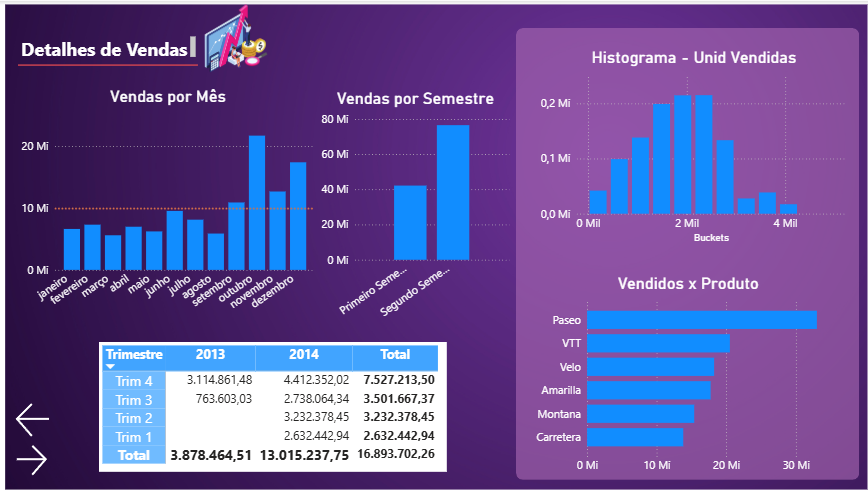

The dashboard page shown, as its layout file describes it:
{"tool":"powerbi","page":{"name":"Detalhes","canvas":[1280,720],"ordinal":2},"visuals":[{"type":"image","title":"fundo_purple","box":[0,0,1280.3,720],"z":0},{"type":"shape","box":[27.3,76.9,263.2,32.5],"z":1000},{"type":"actionButton","title":"Botão - Next","box":[18.8,644.3,58,56.3],"z":1000},{"type":"shape","box":[757.1,39.3,502.4,661.4],"z":2000},{"type":"clusteredColumnChart","title":"Vendas por Mês","fields":{"Category":["financials.Date.Variation.Hierarquia de datas.Mês"],"Y":["Sum(financials. Sales)"]},"box":[27.3,126.5,439.2,348.6],"z":2001},{"type":"pivotTable","fields":{"Columns":["financials.Date.Variation.Hierarquia de datas.Ano"],"Rows":["financials.Date.Variation.Hierarquia de datas.Trimestre"],"Values":["Sum(financials.Profit)"]},"box":[147,499,509.5,189.9],"z":4000},{"type":"clusteredColumnChart","title":"Vendas por Semestre","fields":{"Category":["financials.Semestres"],"Y":["Sum(financials. Sales)"]},"box":[466.5,128.2,285.4,346.9],"z":4001},{"type":"clusteredColumnChart","title":"Histograma - Unid Vendidas","fields":{"Category":["financials.Buckets"],"Y":["Sum(financials.Units Sold)"]},"box":[787.8,68.4,459.7,290.5],"z":4002},{"type":"clusteredBarChart","title":"Vendidos x Produto","fields":{"Category":["financials.Product"],"Y":["Sum(financials. Sales)"]},"box":[775.9,399.9,466.5,300.8],"z":4003},{"type":"actionButton","box":[18.8,582.8,80.3,61.5],"z":4004},{"type":"image","box":[290.5,0,111.1,109.4],"z":4005},{"type":"textbox","box":[27.3,46.1,264.9,42.7],"z":5000}]}

Visuals, with their boxes in screenshot pixels (x1, y1, x2, y2), scaled from the page's 1280x720 canvas onto the 868x490 screenshot:
"fundo_purple" image: left=0, top=0, right=867, bottom=489
shape: left=19, top=52, right=197, bottom=74
"Botão - Next" actionButton: left=13, top=438, right=52, bottom=477
shape: left=513, top=27, right=854, bottom=477
"Vendas por Mês" clusteredColumnChart: left=19, top=86, right=316, bottom=323
pivotTable - financials.Date.Variation.Hierarquia de datas.Ano x financials.Date.Variation.Hierarquia de datas.Trimestre: left=100, top=340, right=445, bottom=469
"Vendas por Semestre" clusteredColumnChart: left=316, top=87, right=510, bottom=323
"Histograma - Unid Vendidas" clusteredColumnChart: left=534, top=47, right=846, bottom=244
"Vendidos x Produto" clusteredBarChart: left=526, top=272, right=843, bottom=477
actionButton: left=13, top=397, right=67, bottom=438
image: left=197, top=0, right=272, bottom=74
textbox: left=19, top=31, right=198, bottom=60
